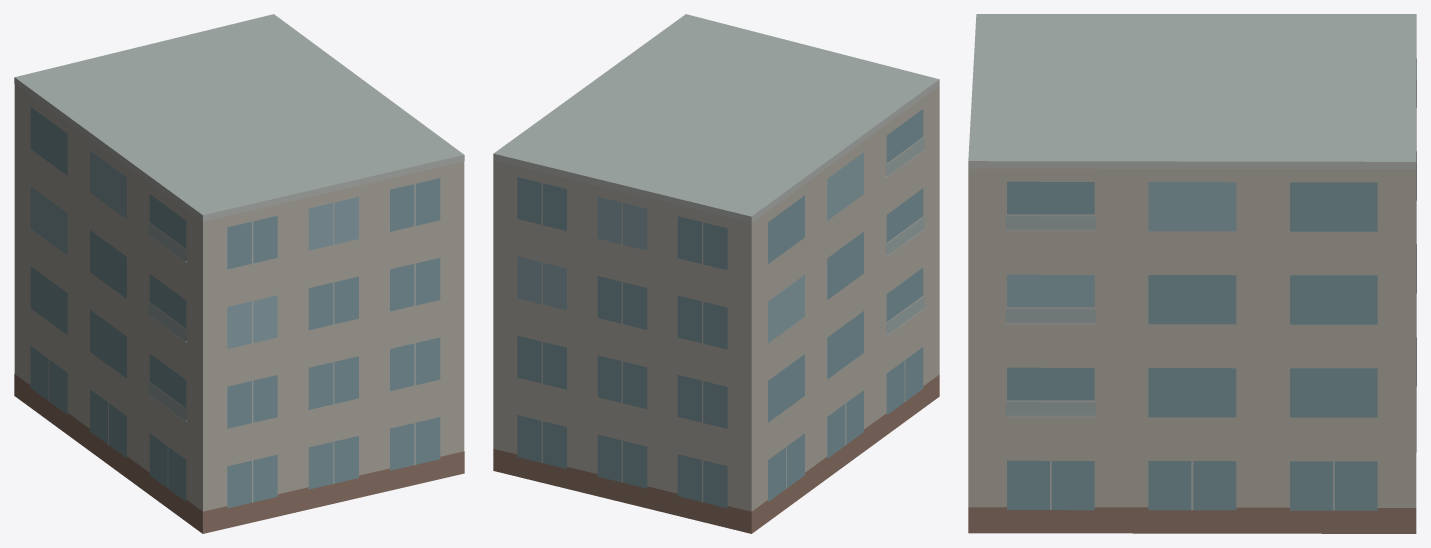
File: survey-upis-32974275.glb
The picture shows the model from 3 angles, left to right: view 1: azimuth 30°, elevation 25°; view 2: azimuth 150°, elevation 25°; view 3: azimuth 270°, elevation 25°; orthographic projection. The views are drawn at different scales.
Visible parts, largest first — view 1: survey-upis-32974275.tmp; view 2: survey-upis-32974275.tmp; view 3: survey-upis-32974275.tmp.
Part boxes in pixels (bbox=[...]): survey-upis-32974275.tmp: bbox=[14, 14, 464, 533]; survey-upis-32974275.tmp: bbox=[493, 14, 939, 533]; survey-upis-32974275.tmp: bbox=[968, 14, 1416, 533].
Bounding box in the file's own units: 10.36 × 12.1 × 13.23.
